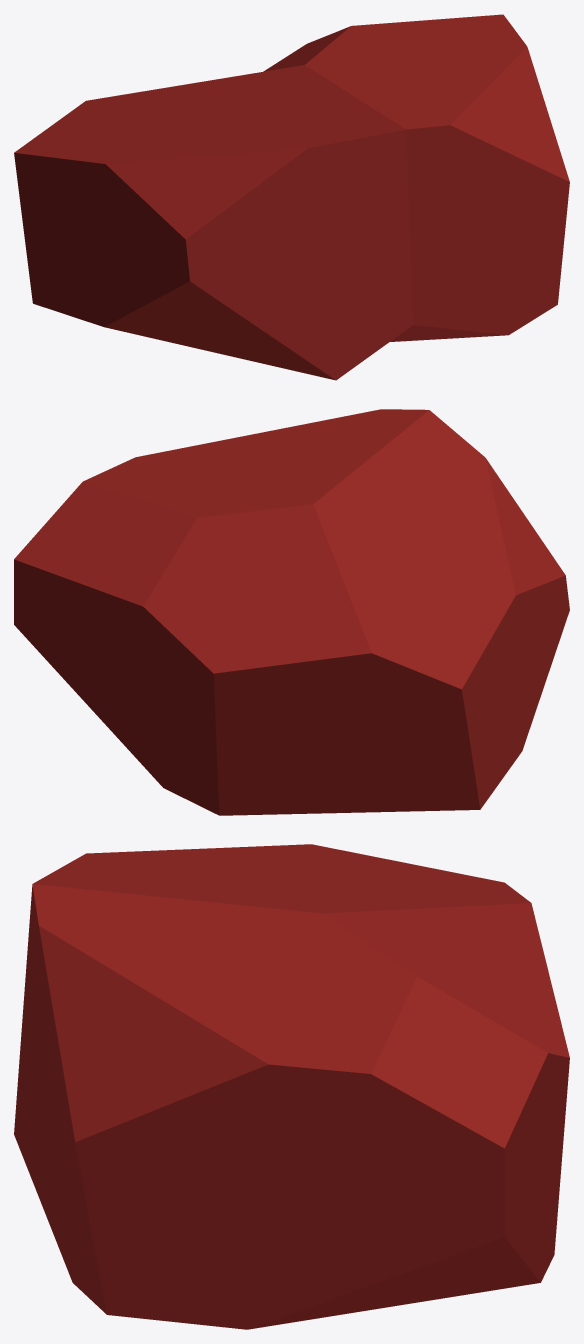
Rendered from gib.fbx.
The picture shows the model from 3 angles, top to bottom: view 1: azimuth 30°, elevation 25°; view 2: azimuth 150°, elevation 25°; view 3: azimuth 270°, elevation 25°; orthographic projection. The views are drawn at different scales.
Visible parts, largest first — view 1: Cube; view 2: Cube; view 3: Cube.
Boxes of the visible parts, x1=… form: Cube: x1=14, y1=14, x2=569, y2=380; Cube: x1=14, y1=409, x2=569, y2=815; Cube: x1=14, y1=844, x2=569, y2=1329.
Bounding box in the file's own units: 140 × 80 × 112.
